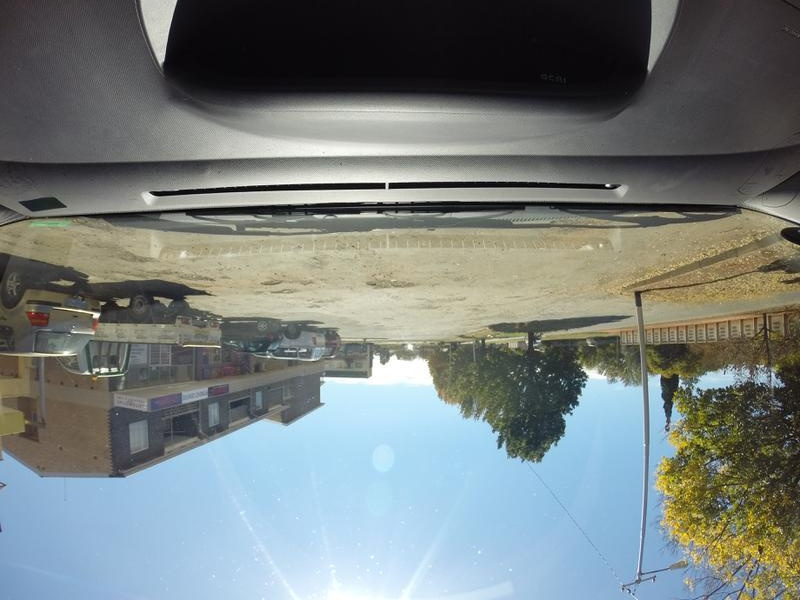pothole: (86, 240, 153, 269), (350, 277, 418, 293), (177, 270, 212, 287), (423, 291, 464, 304), (299, 293, 332, 307), (274, 286, 298, 297), (252, 279, 280, 284)
